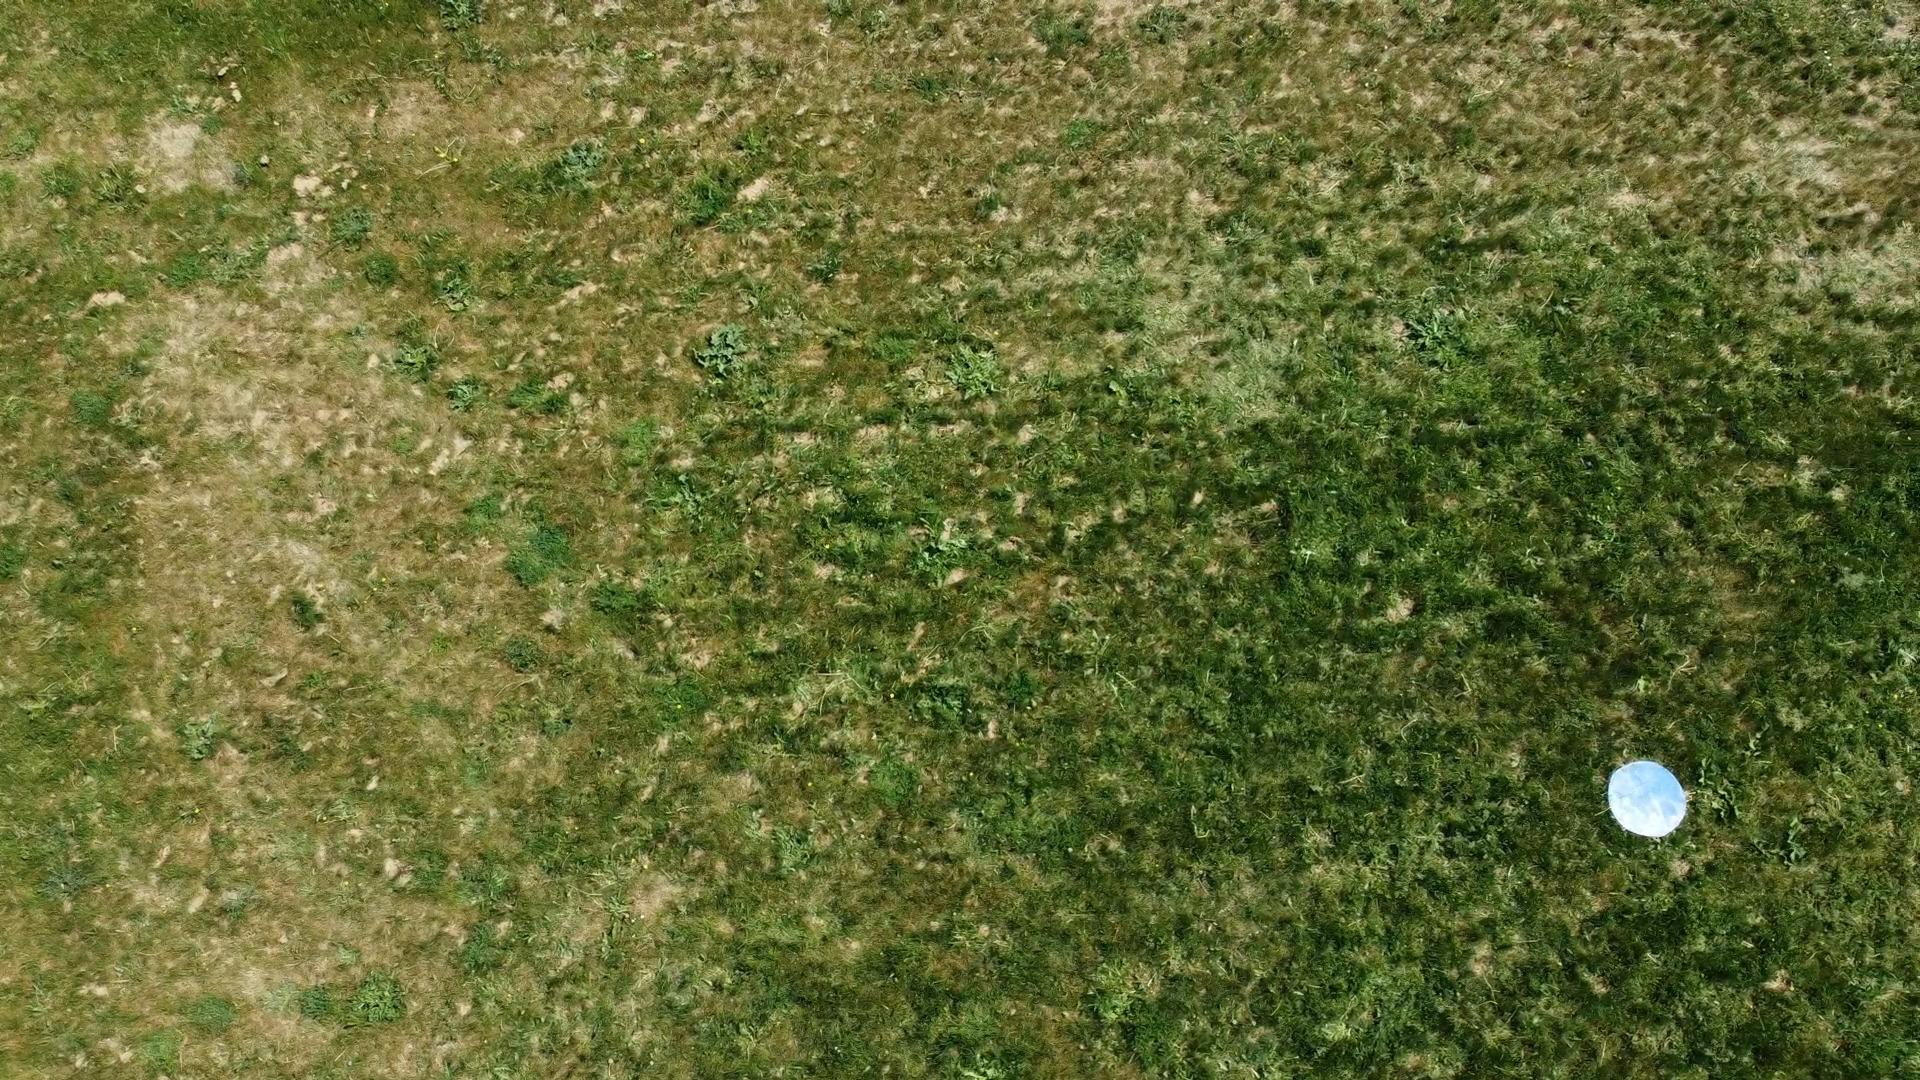Blue: (1605, 760, 1689, 841)
